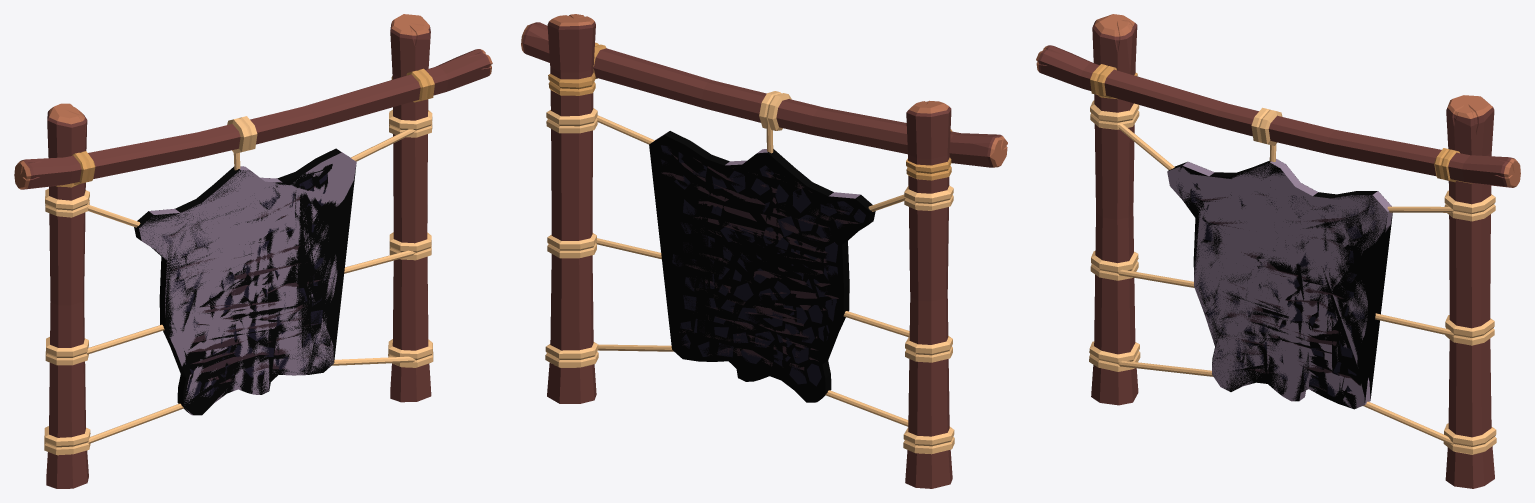
Rendered from Hide Drying Rack 01.fbx.
The picture shows the model from 3 angles, left to right: view 1: azimuth 30°, elevation 25°; view 2: azimuth 150°, elevation 25°; view 3: azimuth 330°, elevation 25°; orthographic projection.
Visible parts, largest first — view 1: Hide Drying Rack 01, Drying Hide 01, Drying Hide 03, Drying Hide 02; view 2: Hide Drying Rack 01, Drying Hide 02, Drying Hide 03, Drying Hide 01; view 3: Hide Drying Rack 01, Drying Hide 01, Drying Hide 03, Drying Hide 02.
Part boxes in pixels (x1,y1,x2,y2): Hide Drying Rack 01: [14, 14, 492, 488]; Drying Hide 01: [87, 129, 416, 442]; Drying Hide 03: [85, 130, 415, 443]; Drying Hide 02: [137, 148, 341, 415]; Hide Drying Rack 01: [521, 14, 1007, 488]; Drying Hide 02: [649, 134, 870, 402]; Drying Hide 03: [596, 120, 909, 420]; Drying Hide 01: [596, 115, 909, 426]; Hide Drying Rack 01: [1036, 14, 1520, 488]; Drying Hide 01: [1118, 124, 1453, 444]; Drying Hide 03: [1116, 127, 1453, 440]; Drying Hide 02: [1176, 161, 1388, 407].
Bounding box in the file's own units: 224 × 170 × 30.41.
